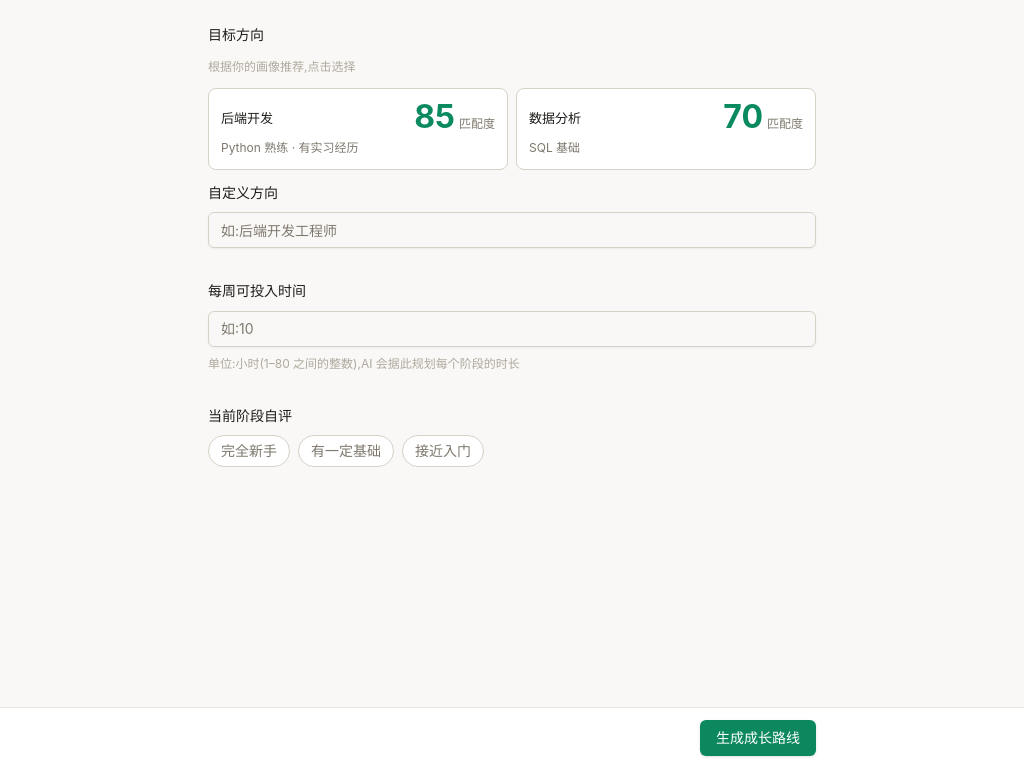
Scenario: DirectionForm › 提交失败:展示服务端错误提示
Step 1. Click the radio button labelled "后端开发 85匹配度 Python 熟练 · 有实习经历" → (247, 118), box x1=208 y1=88 x2=508 y2=170
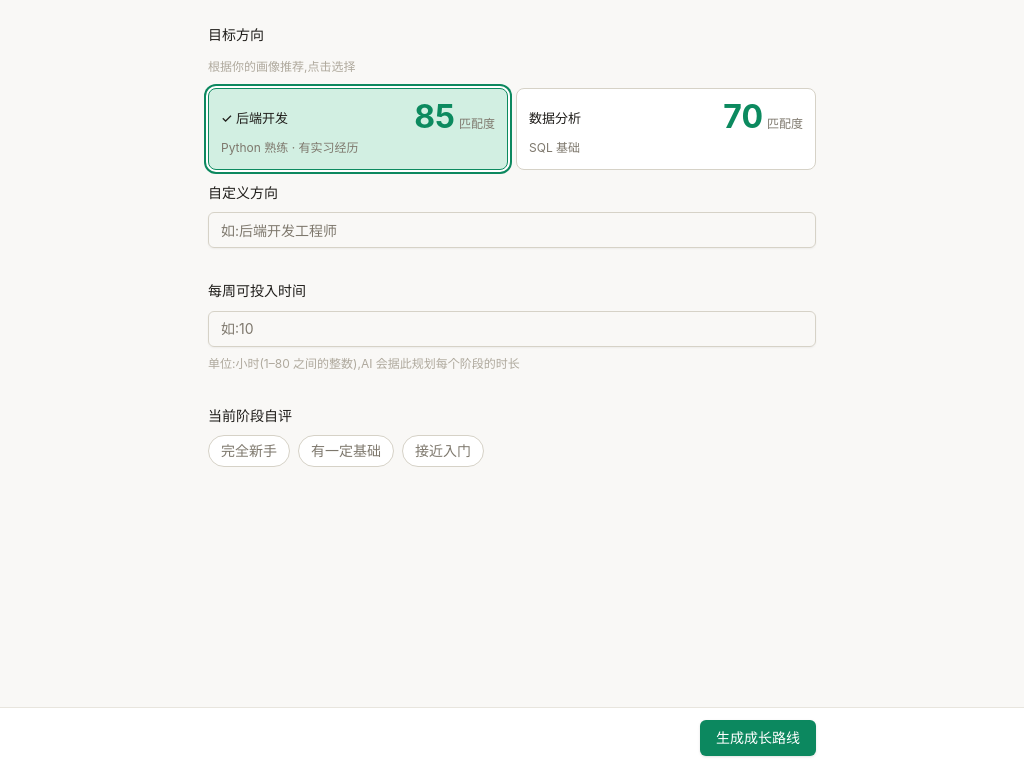
Step 2. Type "10" into the number field labelled "每周可投入时间" → (512, 329), box x1=208 y1=311 x2=816 y2=347
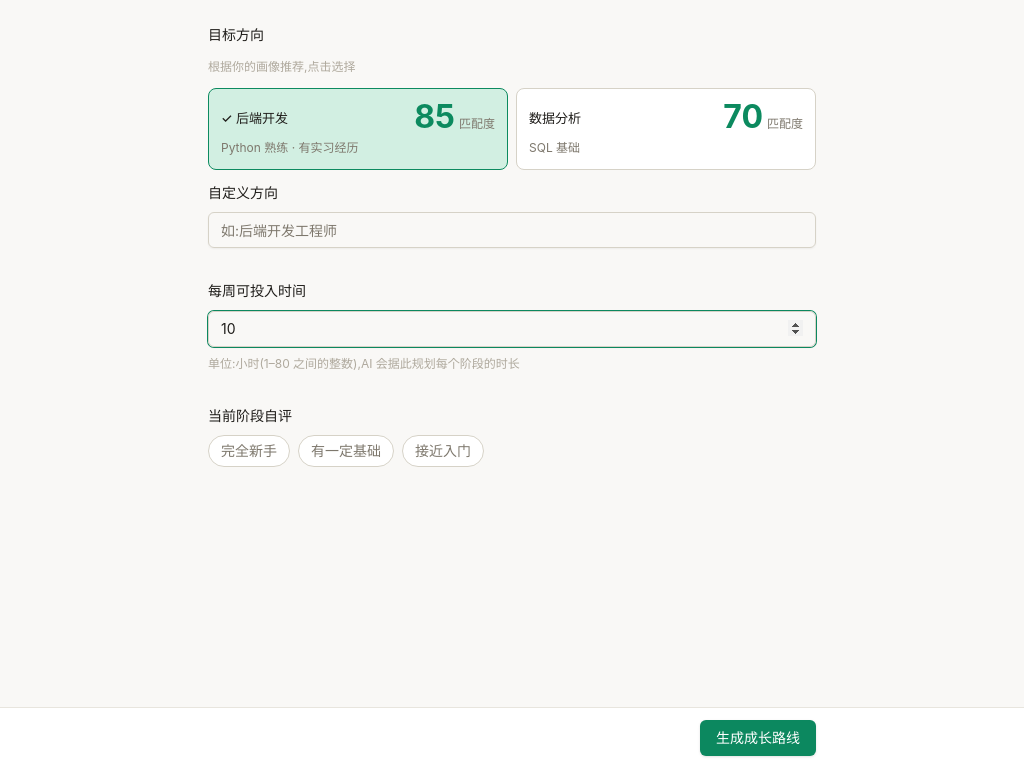
Step 3. Click the button "完全新手" → (249, 451), box x1=208 y1=435 x2=290 y2=467
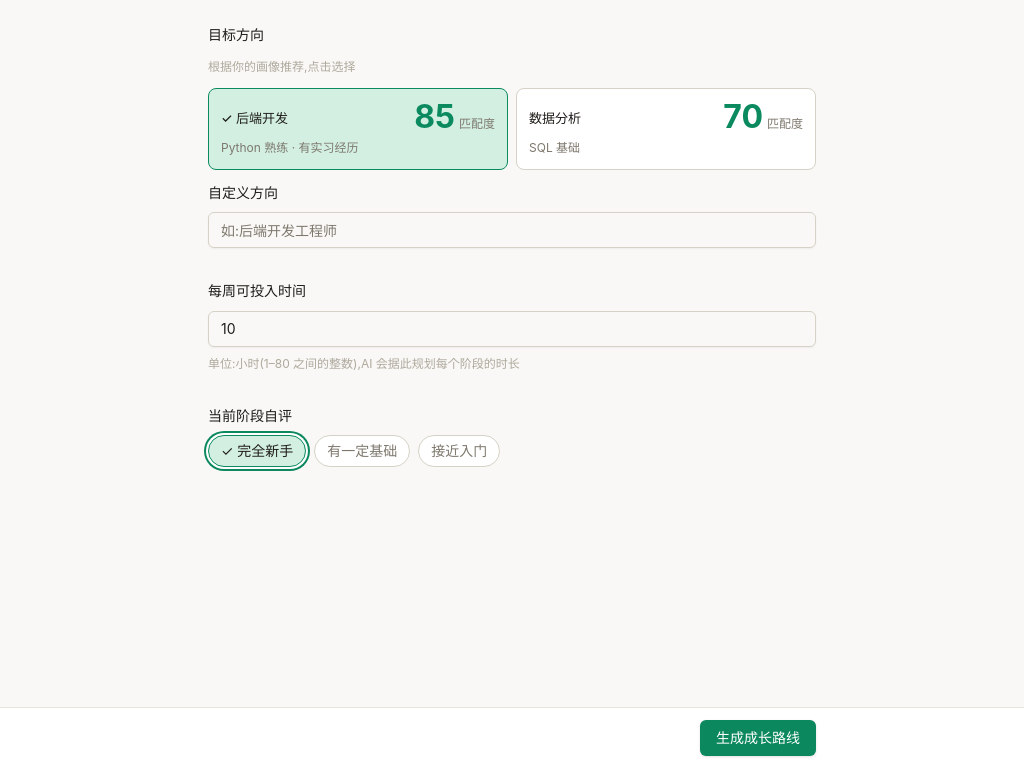
Step 4. Click the button "生成成长路线" → (758, 738), box x1=700 y1=720 x2=816 y2=756
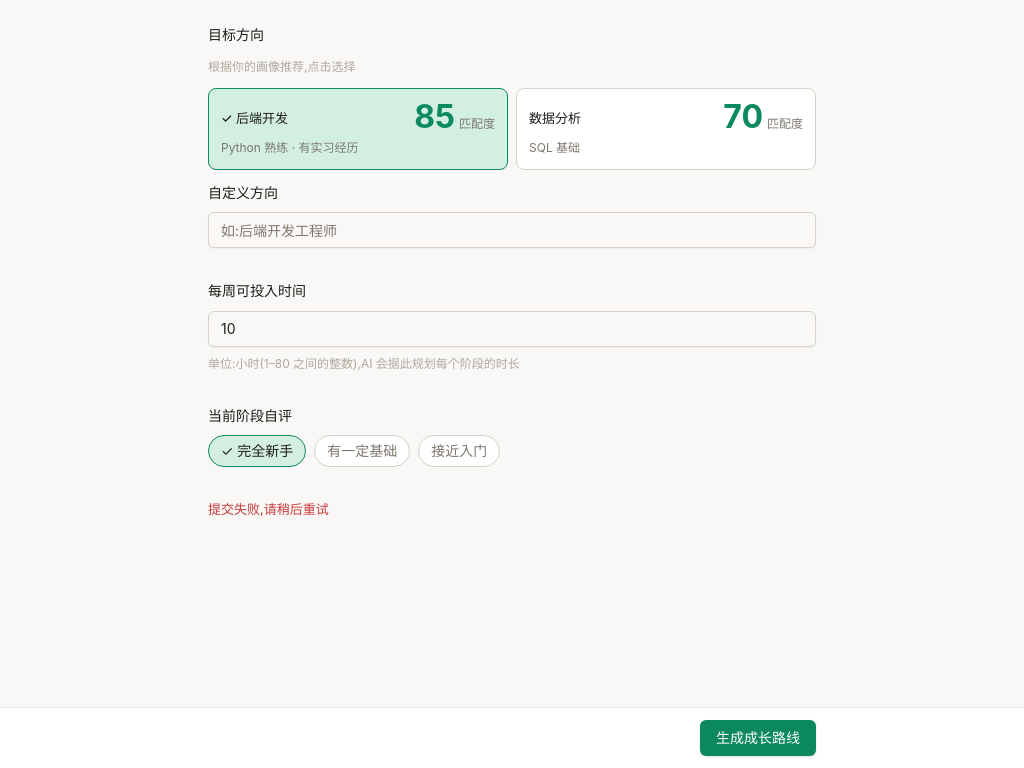
expect the message reads "提交失败,请稍后重试": met, box x1=208 y1=501 x2=329 y2=517
